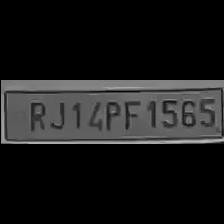1: (140, 96, 158, 130), (66, 97, 82, 131)
4: (84, 97, 103, 131)
5: (156, 96, 178, 130), (197, 95, 217, 127)
6: (178, 96, 196, 128)
F: (120, 97, 140, 131)
J: (47, 97, 67, 132)
P: (102, 97, 120, 132)
R: (24, 99, 46, 134)
